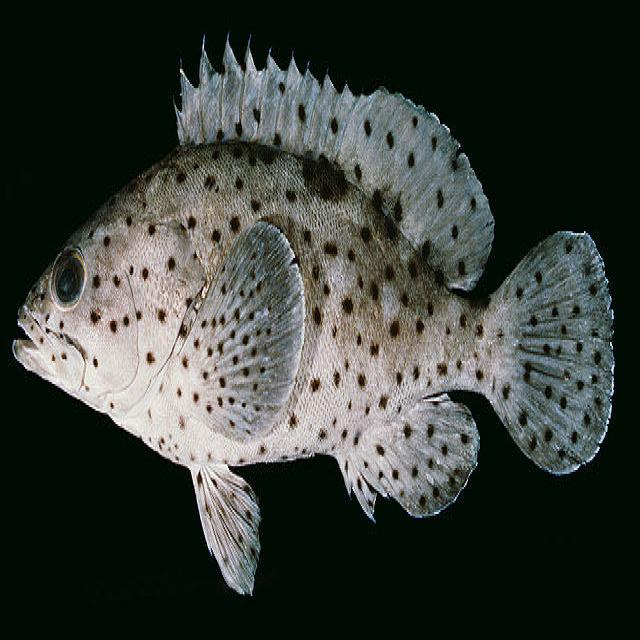ikan: (11, 29, 615, 598)
